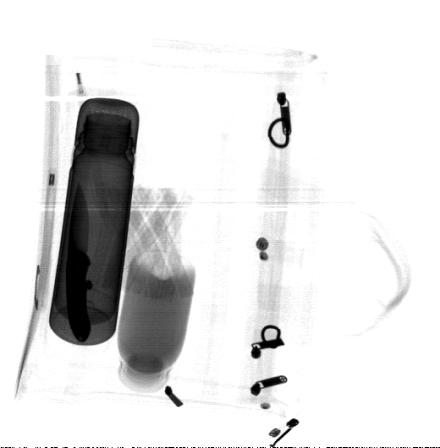Knife: (65, 179, 94, 343)
